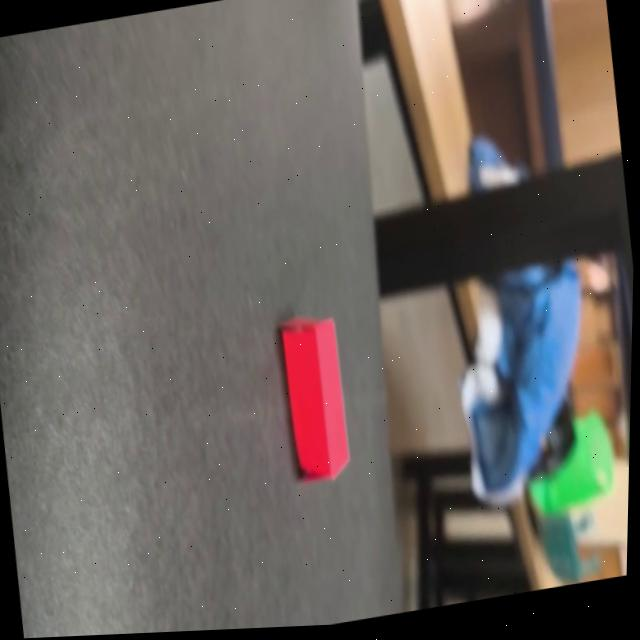red block: (273, 307, 356, 486)
